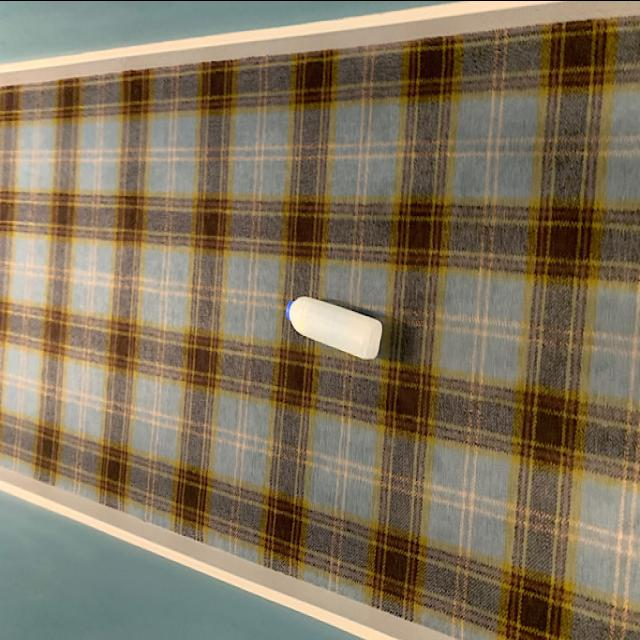HDPEM: (286, 294, 384, 364)
